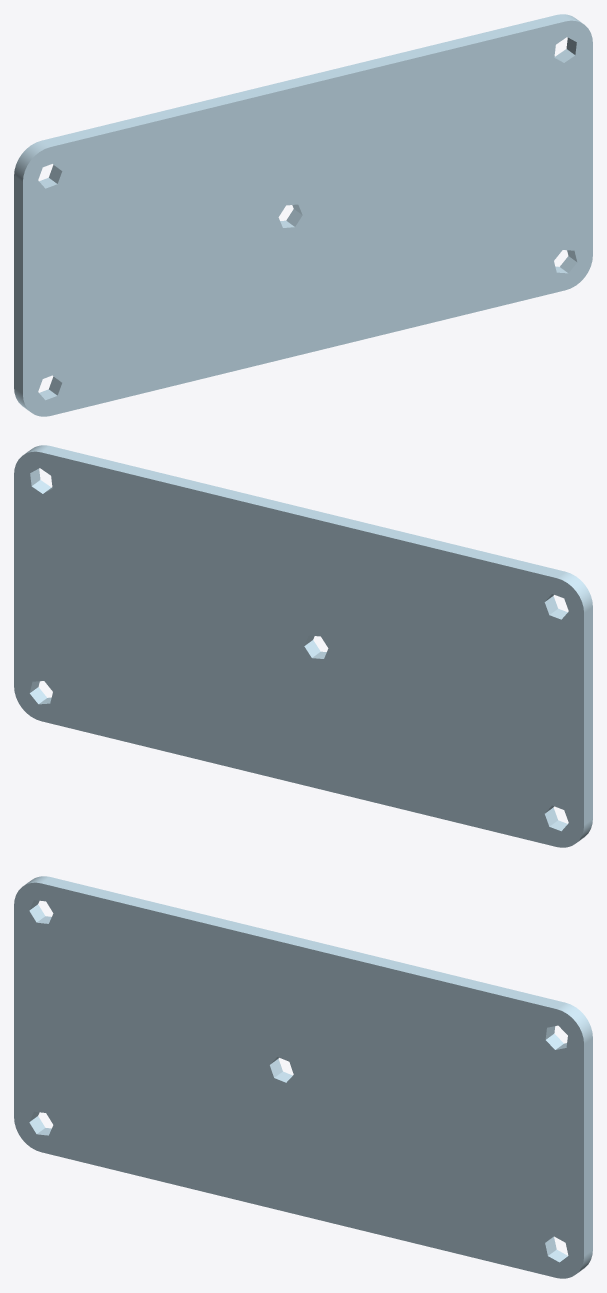
The model's file is Mixbox Layout Bottom.gltf.
The picture shows the model from 3 angles, top to bottom: view 1: azimuth 30°, elevation 25°; view 2: azimuth 150°, elevation 25°; view 3: azimuth 330°, elevation 25°; orthographic projection.
Parts seen in each view (by area): view 1: Part 1; view 2: Part 1; view 3: Part 1.
Boxes of the visible parts, left/top/right/bottom form: Part 1: left=14, top=14, right=592, bottom=416; Part 1: left=14, top=445, right=592, bottom=847; Part 1: left=14, top=876, right=592, bottom=1278.
Bounding box in the file's own units: 0.2969 × 0.1338 × 0.008.
